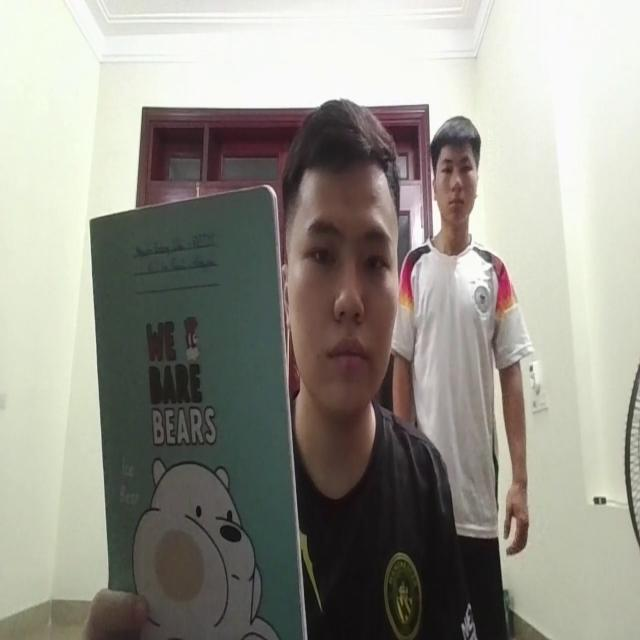book: (85, 188, 308, 640)
extra_person: (392, 102, 536, 594)
student: (284, 97, 420, 640)
